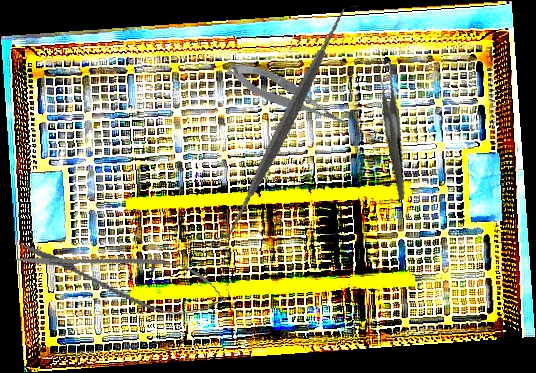Dressing Forceps: (353, 58, 429, 201)
Micro Scissor: (10, 225, 233, 327), (224, 50, 349, 142)
Spatula Surgical: (168, 5, 403, 241)
